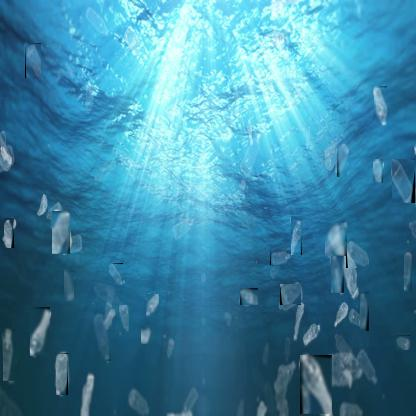bottle: (300, 355, 333, 415), (392, 159, 415, 206), (30, 307, 51, 357), (94, 315, 112, 362), (52, 211, 71, 255), (325, 223, 348, 257), (4, 329, 18, 382), (346, 242, 370, 269), (25, 43, 42, 79), (56, 353, 69, 396), (374, 86, 388, 124), (331, 256, 345, 294), (280, 284, 302, 306), (291, 216, 303, 256), (360, 292, 370, 332), (110, 263, 126, 286), (337, 145, 348, 178), (404, 252, 413, 292), (118, 306, 130, 336), (270, 250, 292, 266), (240, 288, 259, 306), (64, 271, 75, 302), (146, 294, 160, 318), (373, 159, 384, 184), (395, 335, 411, 351)
waste: (4, 218, 15, 249), (142, 326, 156, 345)
